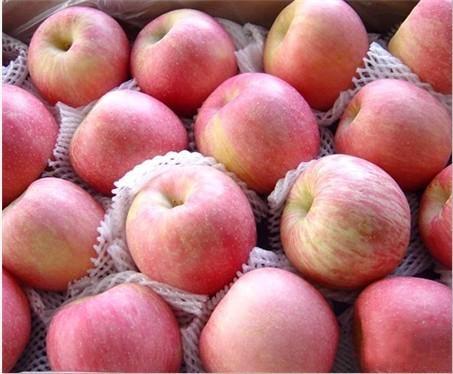apple: (131, 157, 271, 299), (291, 157, 427, 296), (194, 71, 322, 195), (199, 267, 339, 369), (67, 85, 188, 195), (45, 282, 182, 371), (345, 82, 453, 193), (130, 9, 240, 115), (4, 190, 109, 298), (266, 1, 370, 104), (26, 6, 130, 106), (351, 275, 453, 370), (1, 81, 58, 205), (386, 1, 452, 95)
